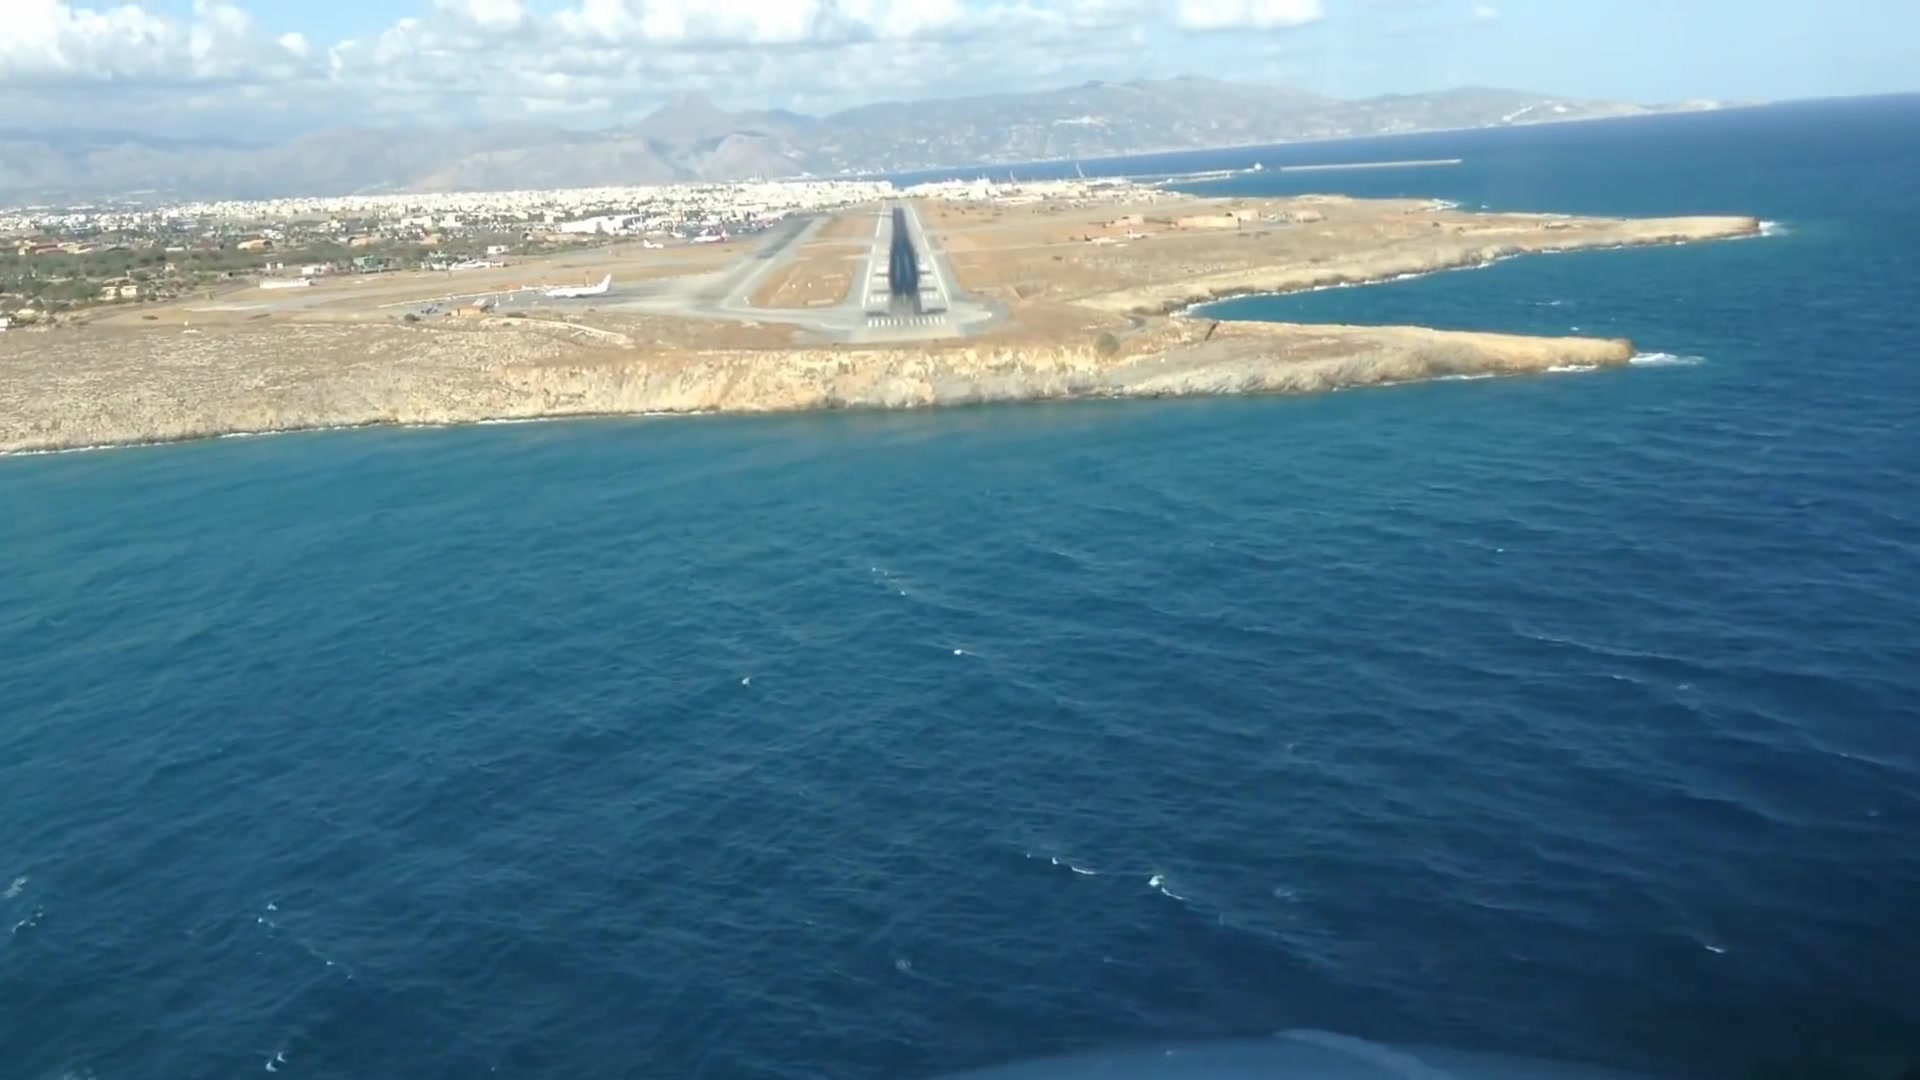entrance: (866, 316, 944, 328)
runway: (858, 196, 949, 338)
